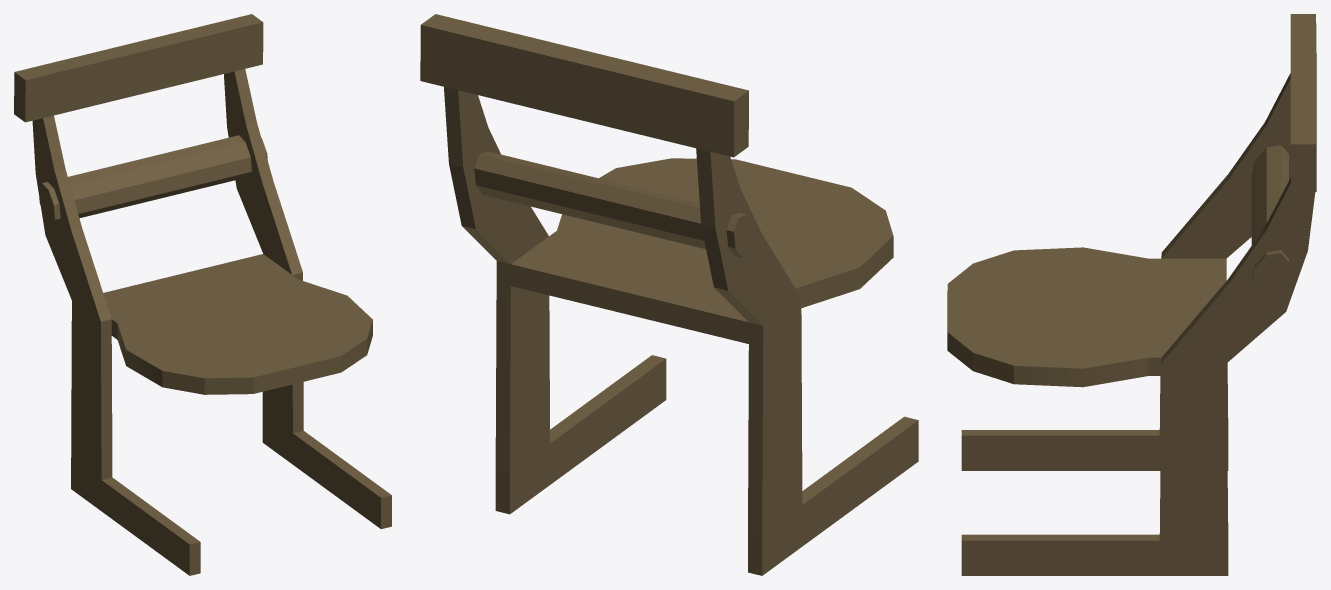
The model's file is DD_2_chair_HENRY.fbx.
The picture shows the model from 3 angles, left to right: view 1: azimuth 30°, elevation 25°; view 2: azimuth 150°, elevation 25°; view 3: azimuth 270°, elevation 25°; orthographic projection. The views are drawn at different scales.
Visible parts, largest first — view 1: DD_2_chair; view 2: DD_2_chair; view 3: DD_2_chair.
Part boxes in pixels (<box>): DD_2_chair: <box>14,14,391,575</box>; DD_2_chair: <box>420,14,918,575</box>; DD_2_chair: <box>947,14,1316,575</box>.
Bounding box in the file's own units: 4.87 × 7.69 × 5.83.
